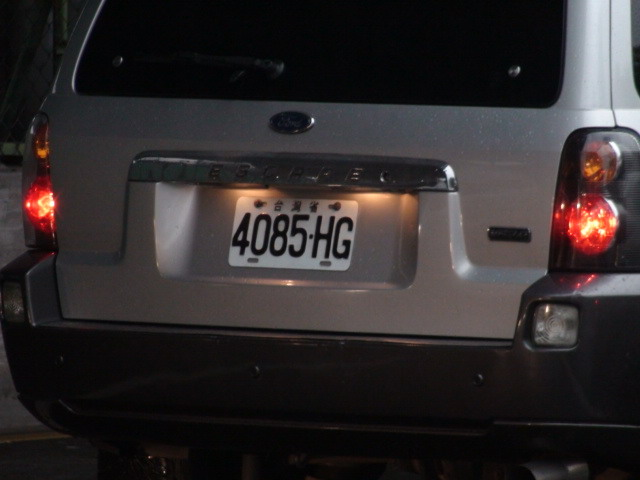plate: (226, 194, 358, 275)
